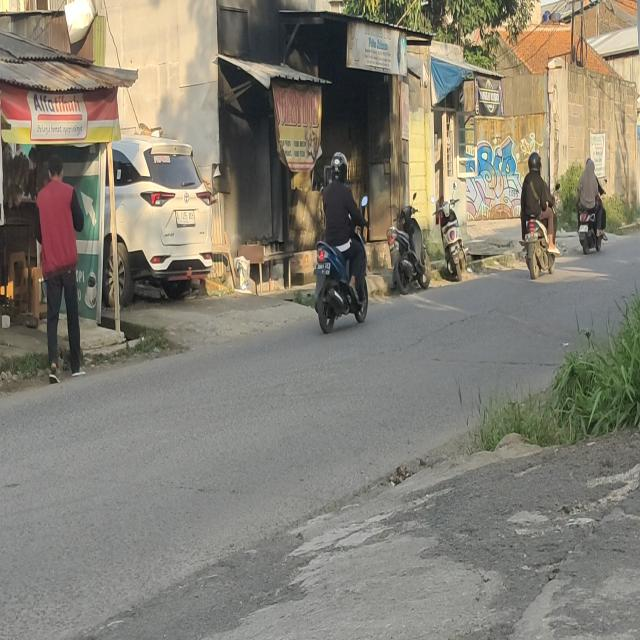helmet: (332, 152, 348, 182), (528, 152, 542, 175)
no-helmet: (586, 158, 595, 175)
